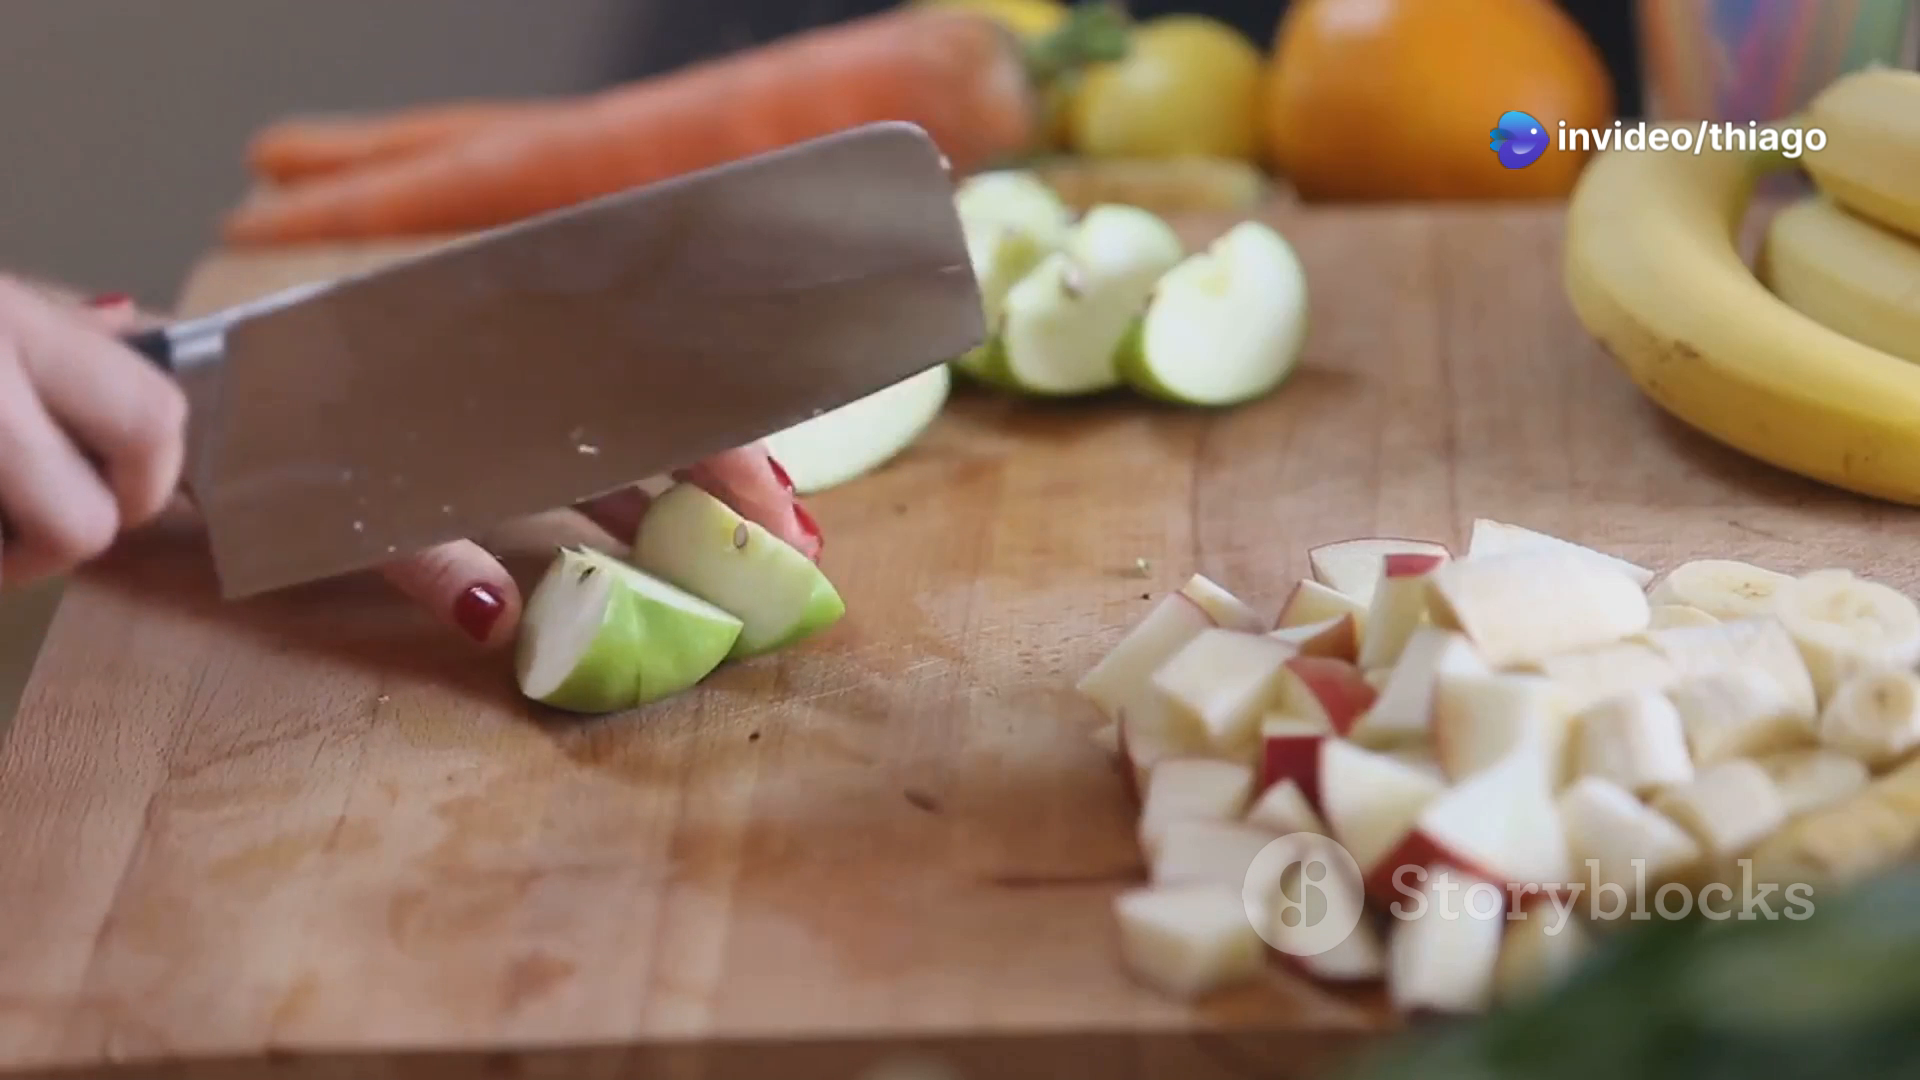cortante: (161, 119, 992, 601)
